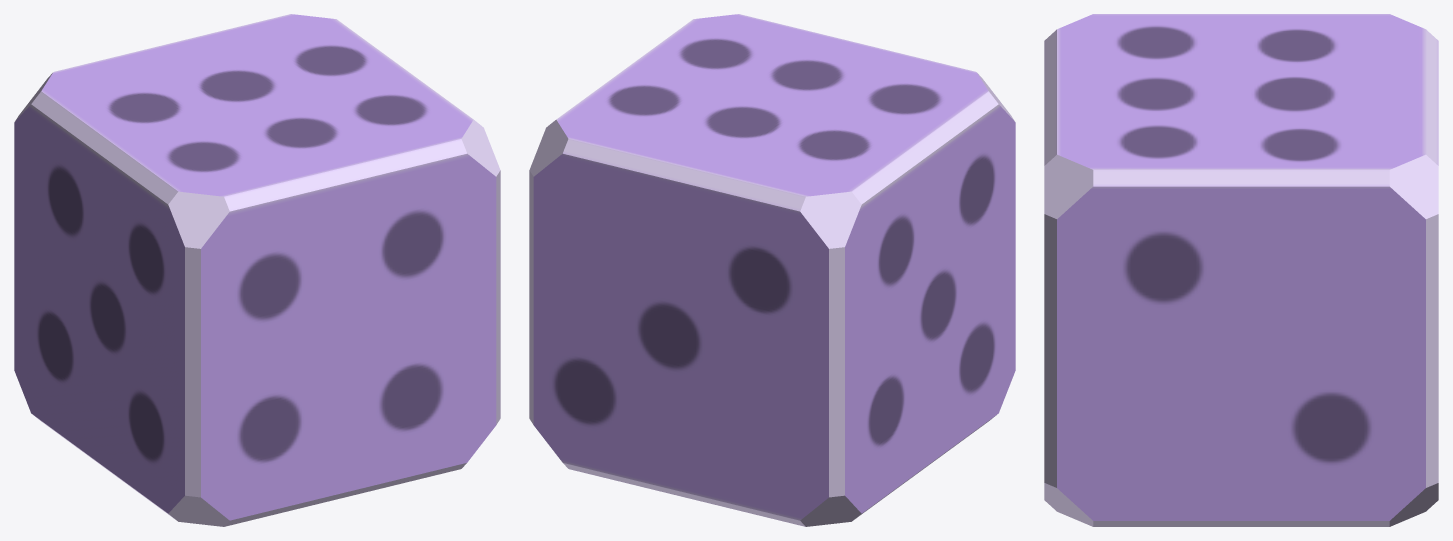
Rendered from dice.fbx.
3 views of the same model, side by side, from view 1: azimuth 30°, elevation 25°; view 2: azimuth 150°, elevation 25°; view 3: azimuth 270°, elevation 25° (orthographic). The views are drawn at different scales.
Parts seen in each view (by area): view 1: Box004; view 2: Box004; view 3: Box004.
Part boxes in pixels (<box>): Box004: <box>14,14,500,526</box>; Box004: <box>529,14,1015,526</box>; Box004: <box>1044,14,1438,526</box>.
Size of the model in its own units: 50 by 50 by 50.
1 material, 1 textured.
